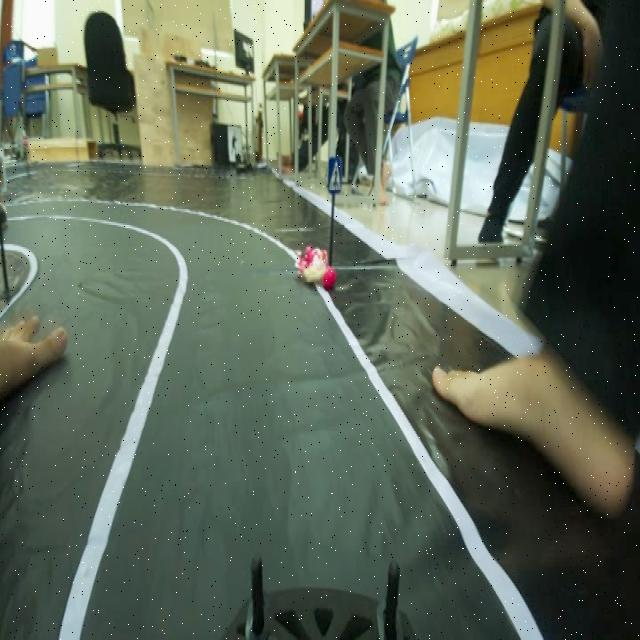crosswalk: (323, 151, 349, 198)
